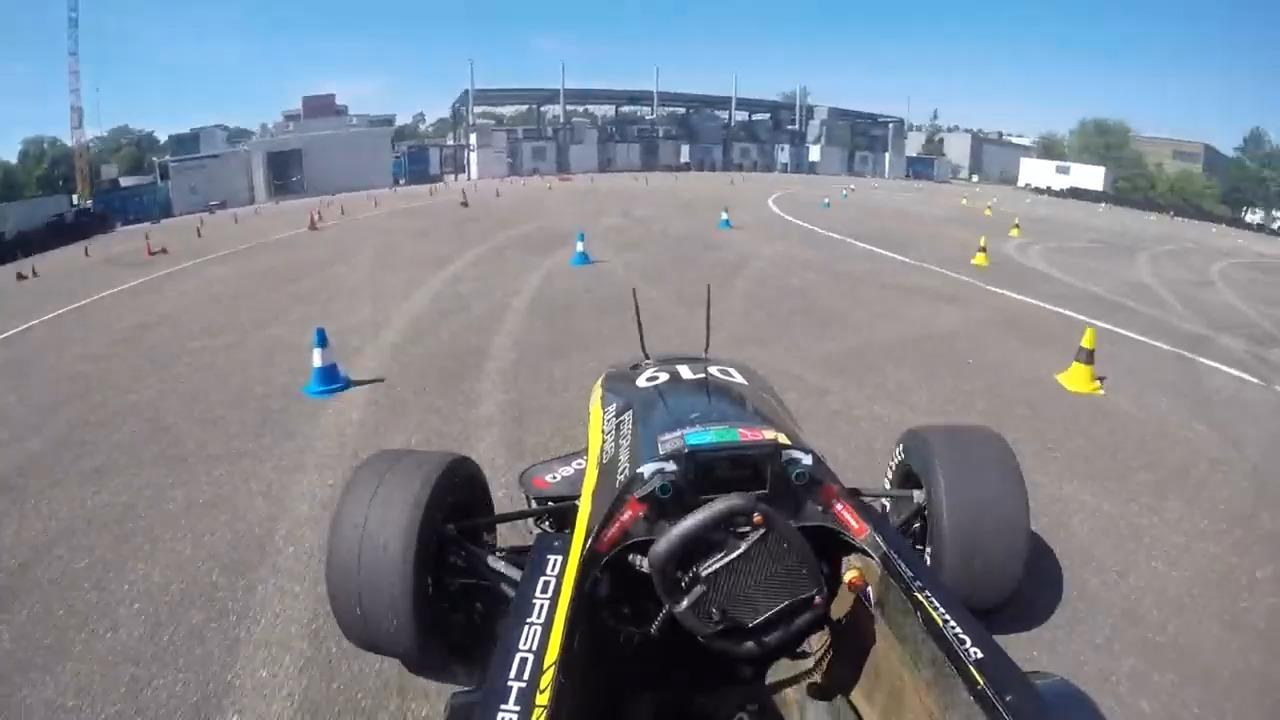blue_cone: (299, 325, 354, 400), (563, 230, 591, 268), (716, 205, 735, 230)
yellow_cone: (1050, 323, 1110, 399), (971, 235, 993, 268), (1006, 215, 1023, 239)
